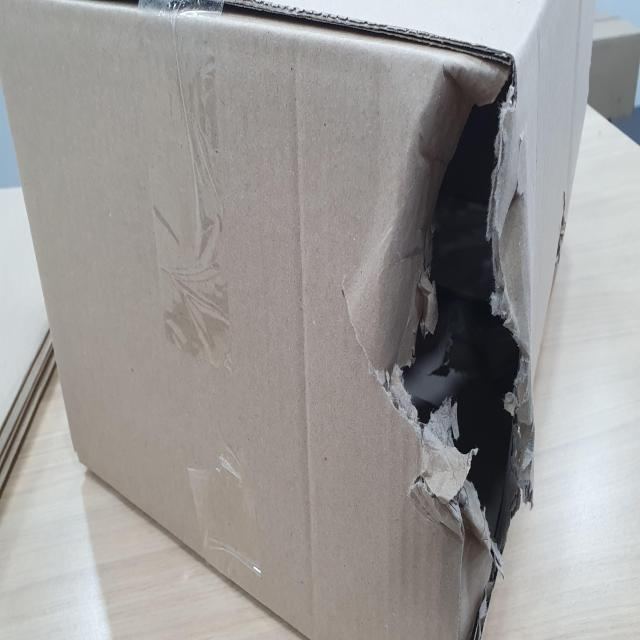damaged: (382, 45, 536, 524)
